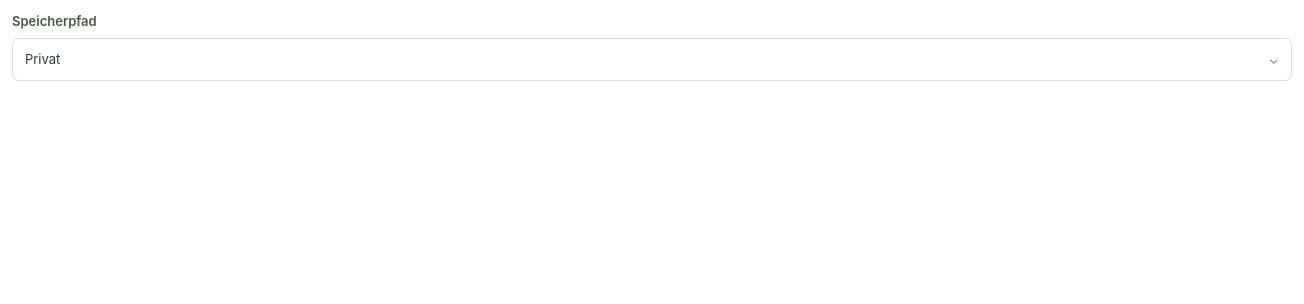
Test: Suchbare Dropdowns › filters only while open, keeps the selection, and supports keyboard selection
Press ArrowDown in the dropdown labelled "Privat ⌄", box [12,38,1292,81]
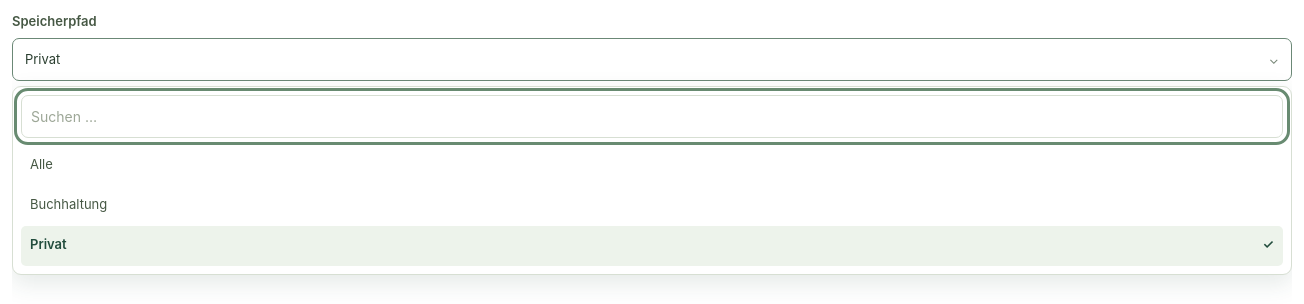
In the search field with placeholder "Suchen …": x=652, y=116 [21,95,1283,138], type "BUCH"
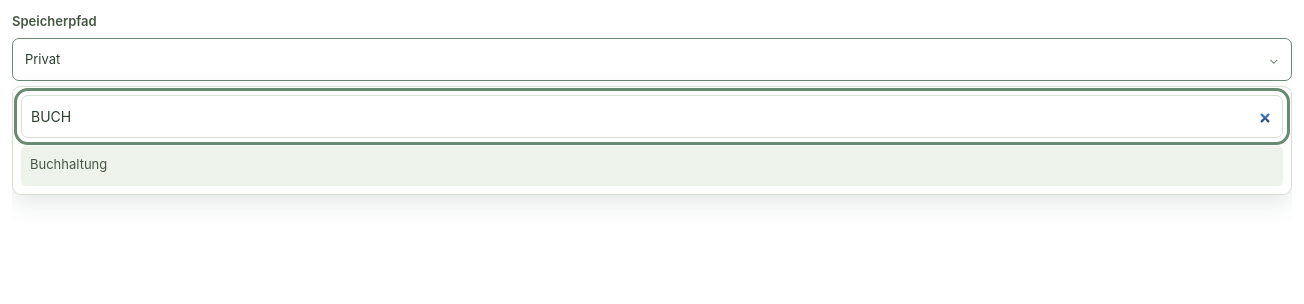
Press Enter in the search field named "Speicherpfad durchsuchen", box [21,95,1283,138]
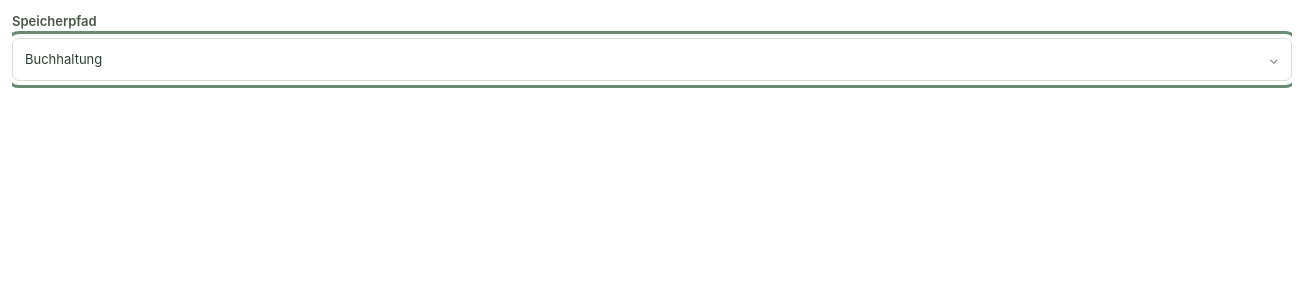
Check: the dropdown labelled "Buchhaltung ⌄" is collapsed, box [12,38,1292,81]
